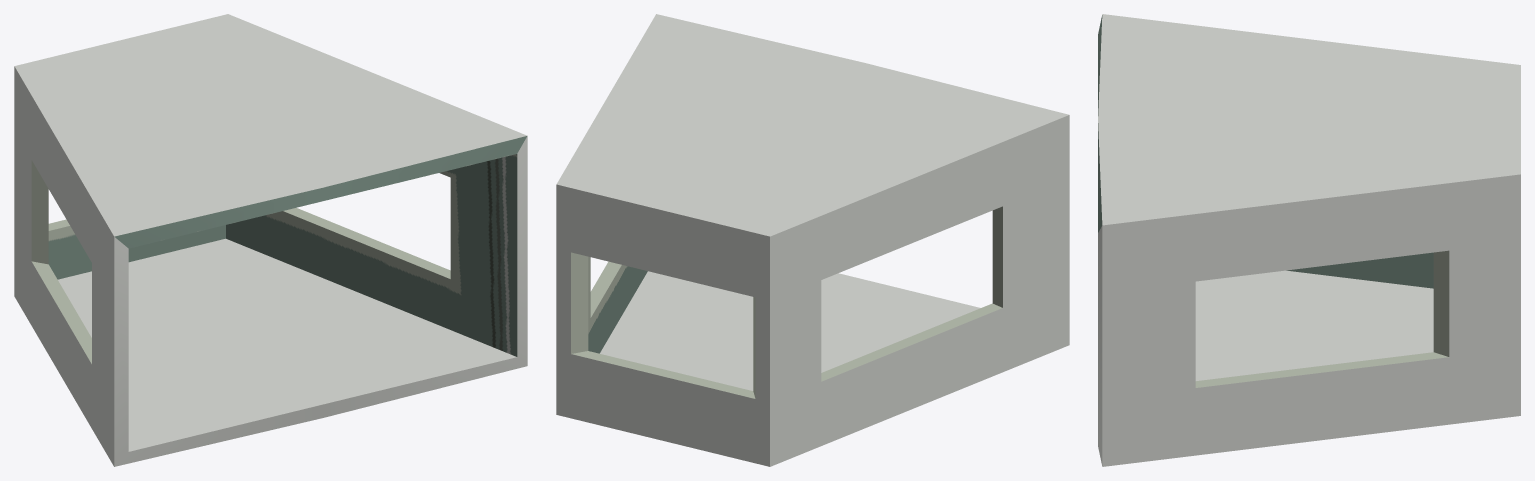
File: observatory.gltf
3 renders of one model, left to right at view 1: azimuth 30°, elevation 25°; view 2: azimuth 150°, elevation 25°; view 3: azimuth 270°, elevation 25°, orthographic. The views are drawn at different scales.
Visible parts, largest first — view 1: observatory; view 2: observatory; view 3: observatory.
Boxes of the visible parts, bbox=[...] form: observatory: bbox=[14, 14, 527, 466]; observatory: bbox=[556, 14, 1069, 466]; observatory: bbox=[1098, 14, 1520, 466].
Size of the model in its own units: 12.77 by 6.8 by 10.79.
Materials: 1 (1 with a texture image).
